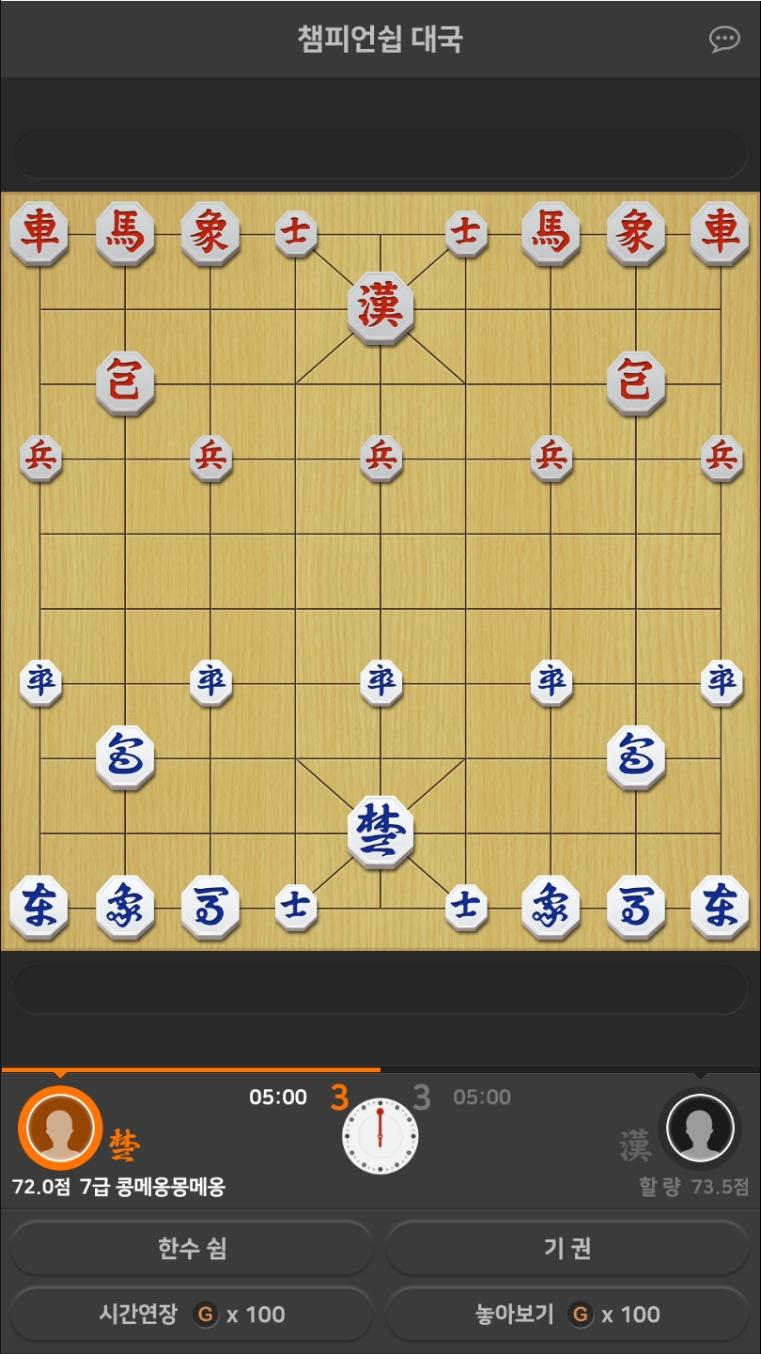cha_green: (692, 876, 748, 940), (12, 874, 67, 935)
cha_red: (8, 204, 70, 270), (691, 201, 749, 263)
jol_green: (358, 659, 406, 705), (189, 659, 235, 706), (698, 661, 745, 706), (528, 661, 576, 705), (21, 659, 63, 706)
jol_red: (191, 436, 233, 484), (701, 436, 743, 483), (21, 436, 62, 484), (361, 436, 402, 483), (533, 436, 573, 483)
ma_green: (183, 877, 240, 938), (608, 876, 664, 937)
ma_red: (94, 200, 157, 264), (521, 202, 581, 265)
po_green: (605, 727, 666, 788), (95, 727, 151, 786)
po_red: (607, 355, 664, 414), (98, 353, 154, 411)
sa_green: (276, 883, 318, 930), (444, 887, 486, 933)
sa_red: (273, 210, 317, 257), (443, 211, 487, 257)
sang_green: (520, 875, 580, 938), (96, 875, 153, 938)
sang_red: (178, 201, 240, 264), (608, 200, 664, 264)
wang_green: (346, 799, 414, 868)
wang_red: (344, 274, 415, 342)
